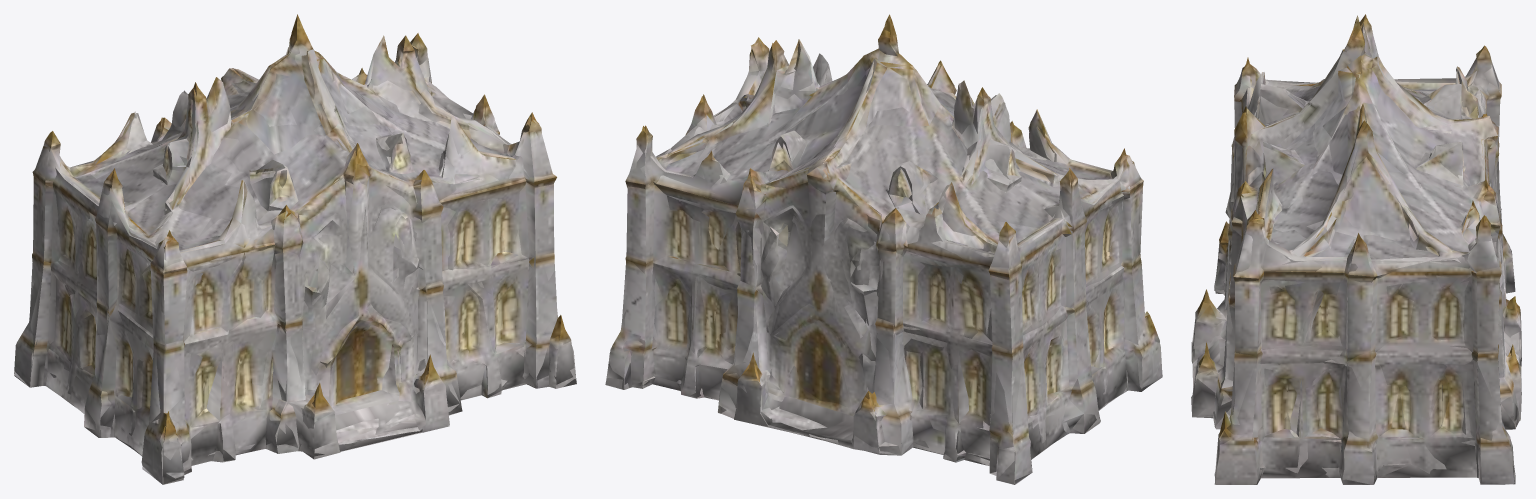
File: sq-angel1-far.glb
3 renders of one model, left to right at view 1: azimuth 30°, elevation 25°; view 2: azimuth 150°, elevation 25°; view 3: azimuth 270°, elevation 25°, orthographic.
Parts seen in each view (by area): view 1: lod4, lod3; view 2: lod4, lod3; view 3: lod4, lod3.
Boxes of the visible parts, left/top/right/bottom form: lod4: left=14, top=21, right=576, bottom=484; lod3: left=14, top=14, right=576, bottom=484; lod4: left=606, top=26, right=1162, bottom=484; lod3: left=605, top=14, right=1162, bottom=484; lod4: left=1192, top=18, right=1521, bottom=484; lod3: left=1191, top=14, right=1521, bottom=484.
Size of the model in its own units: 1.9 by 1.62 by 1.31.
Materials: 1 (1 with a texture image).
